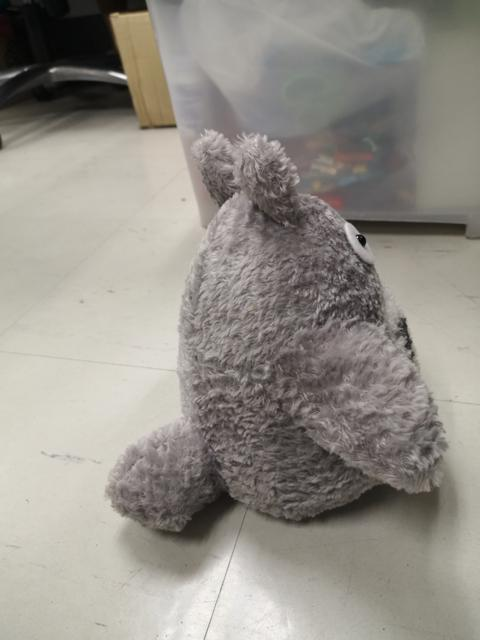totoro: (99, 121, 458, 548)
